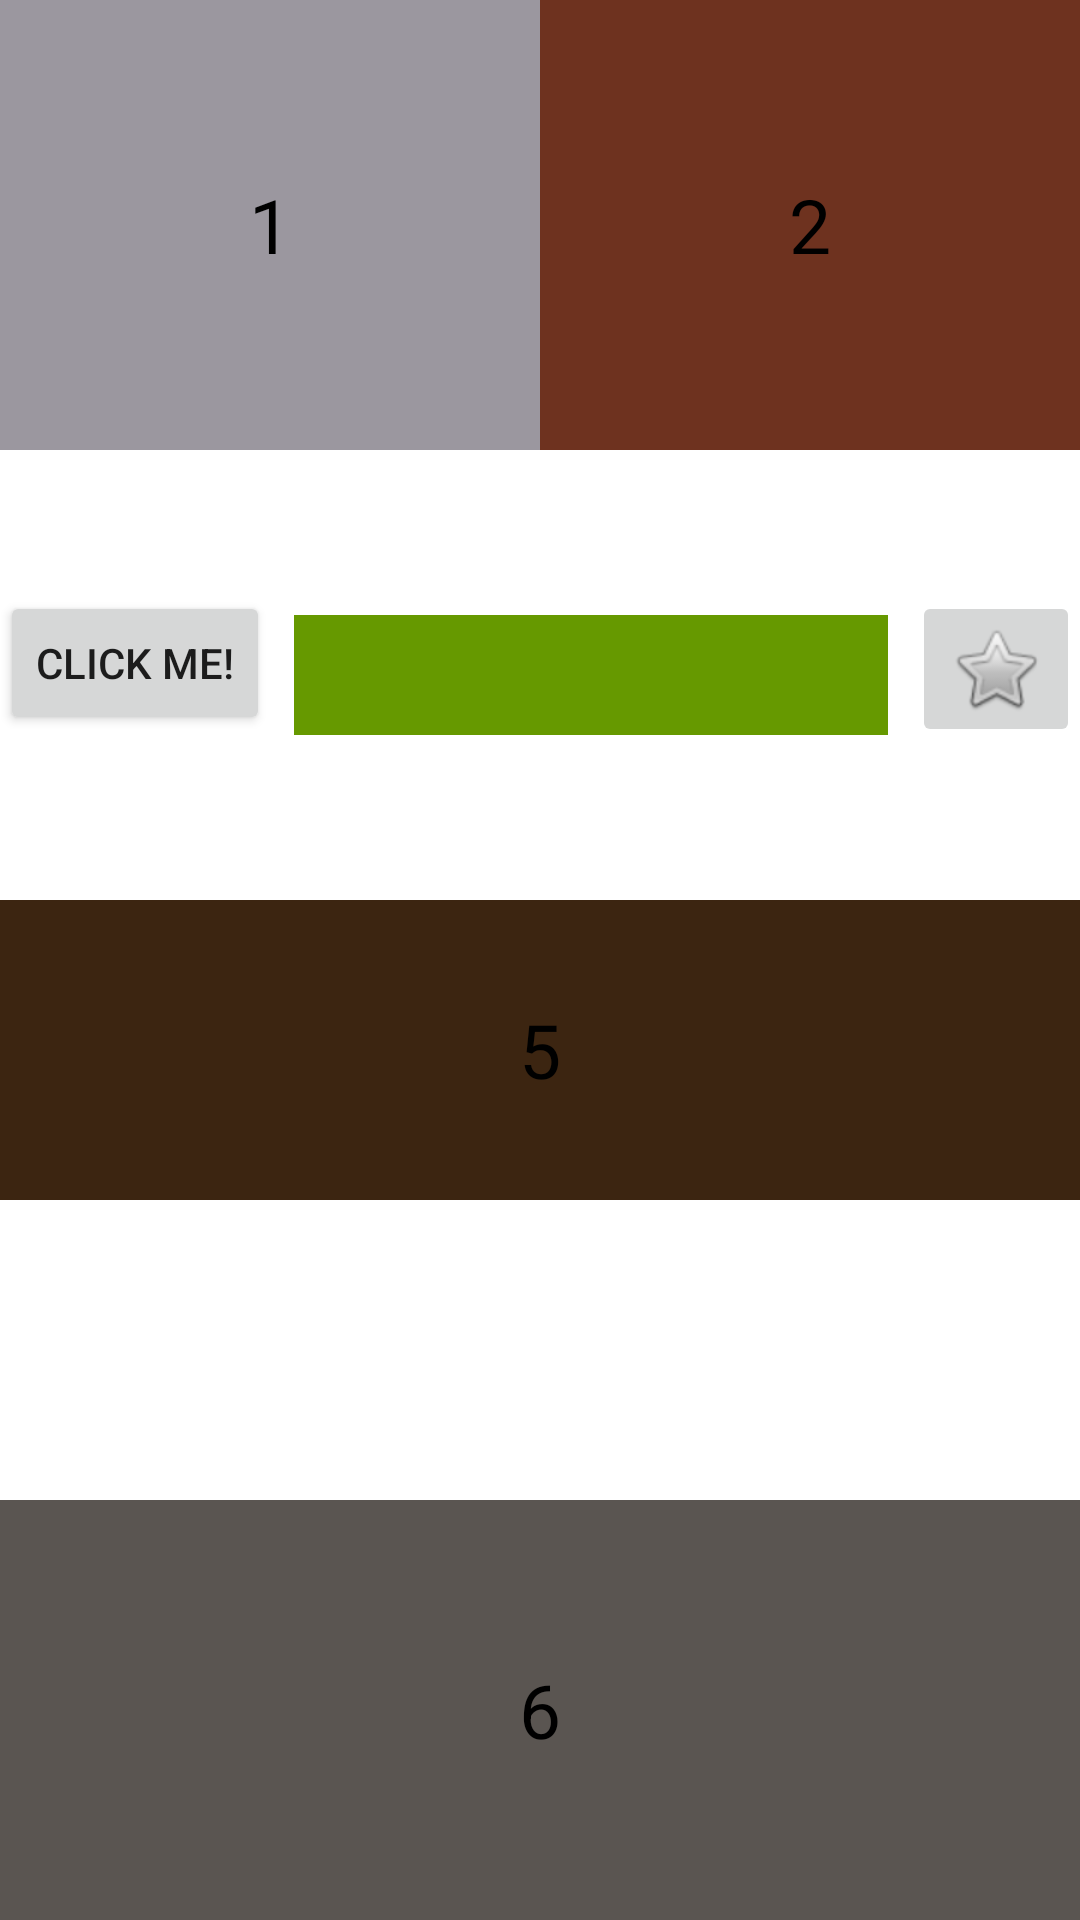

Named icons in this screenshot (1080 × 1920) and their bounding boxes, (x1, y1, x2, y2):
star: (924, 609, 1068, 729)
